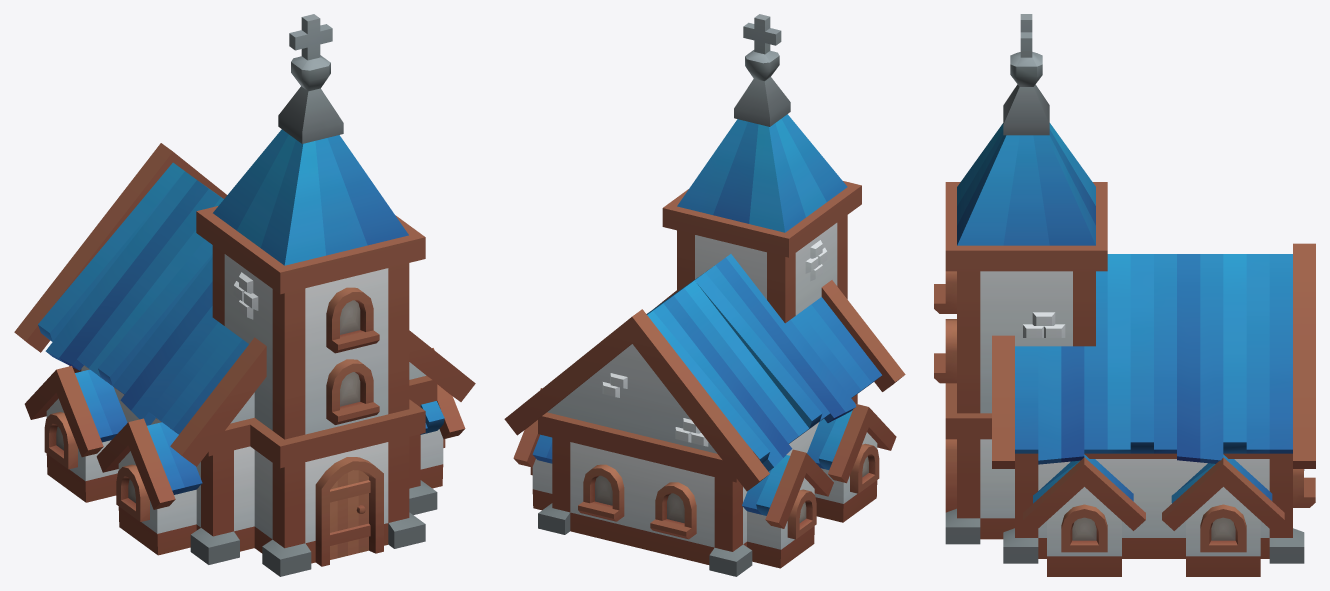
File: kay-igreja.gltf
3 renders of one model, left to right at view 1: azimuth 30°, elevation 25°; view 2: azimuth 150°, elevation 25°; view 3: azimuth 270°, elevation 25°, orthographic. The views are drawn at different scales.
Visible parts, largest first — view 1: building_church_blue; view 2: building_church_blue; view 3: building_church_blue.
Boxes of the visible parts, x1,y1,x2,y2 form: building_church_blue: [14, 14, 475, 576]; building_church_blue: [504, 14, 905, 576]; building_church_blue: [934, 14, 1315, 576].
Size of the model in its own units: 5.15 by 8.23 by 5.77.
Materials: 1 (1 with a texture image).
